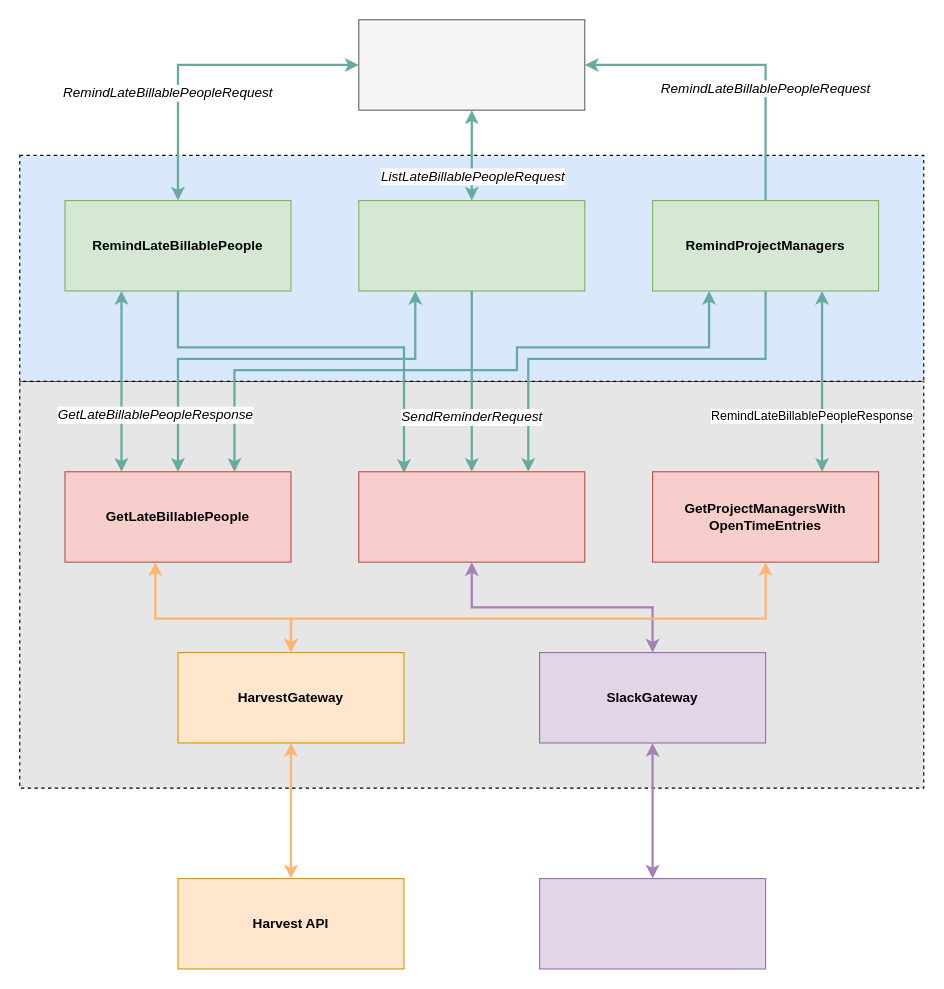
Image size: 944x989. Some labels were removed from this diagram. The centre of each missing label's shape, as x and y in pixels:
"ListLateBillablePeople" belongs at (x=471, y=245).
"SendReminder" belongs at (x=471, y=516).
"Slack API" belongs at (x=652, y=923).
"The Wolves" belongs at (x=471, y=64).
